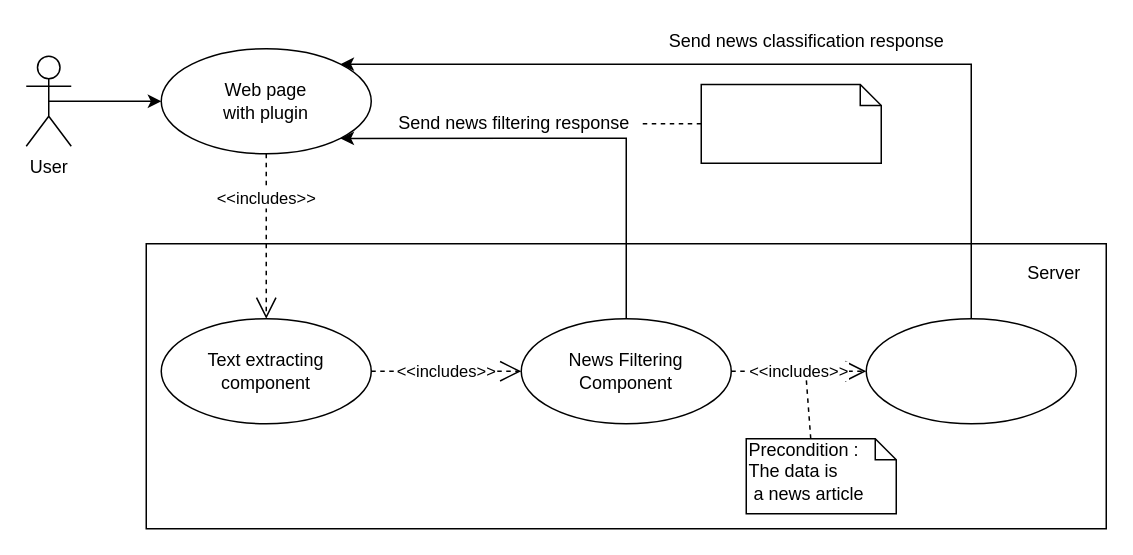
Image size: 1133x555. Some labels were removed from this diagram. Here are the shapes that lost their labels. From the top down, the centre of each, then its label:
At [790,123]: "If the data is not a news article".
At [970,370]: "News classification Component".
